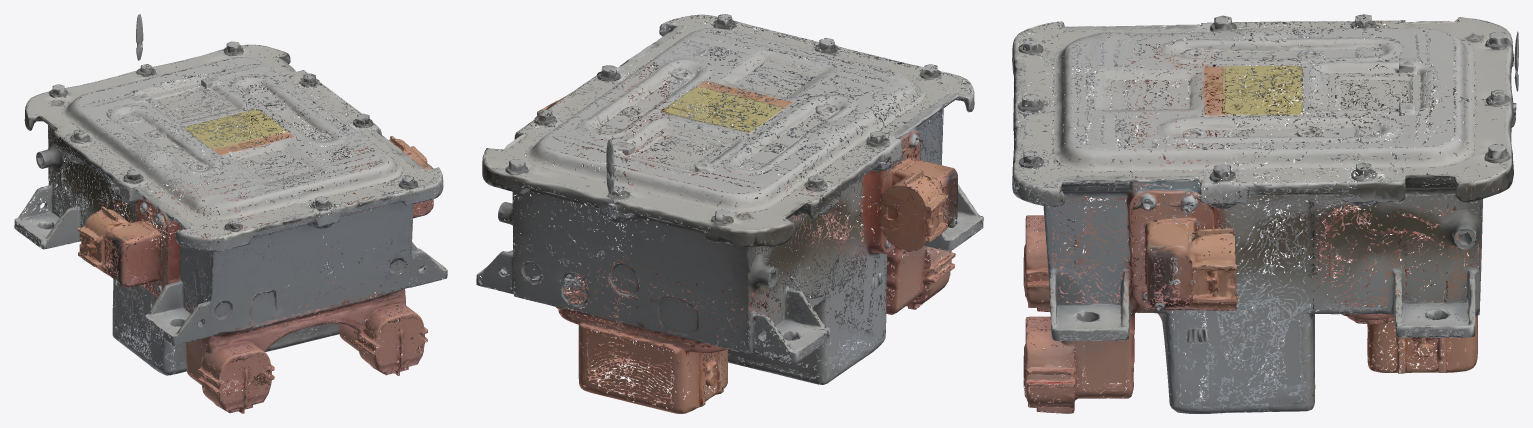
Rendered from bev_inverter_optimized.glb.
3 views of the same model, side by side, from view 1: azimuth 30°, elevation 25°; view 2: azimuth 150°, elevation 25°; view 3: azimuth 270°, elevation 25° (orthographic). The views are drawn at different scales.
Visible parts, largest first — view 1: Object_7, Object_10, Object_2, Object_13, Object_11, Object_18, Object_21, Object_9, Object_17, Object_22, Object_4, Object_5 (+10 smaller); view 2: Object_2, Object_13, Object_4, Object_3, Object_5, Object_14, Object_11, Object_7, Object_17, Object_15, Object_6, Object_16 (+10 smaller); view 3: Object_18, Object_7, Object_6, Object_5, Object_16, Object_8, Object_15, Object_4, Object_13, Object_2, Object_17, Object_9 (+10 smaller).
Part boxes in pixels (<box>): Object_7: <box>105,107,443,297</box>; Object_10: <box>125,85,351,411</box>; Object_2: <box>25,67,252,221</box>; Object_13: <box>14,64,418,321</box>; Object_11: <box>79,160,323,374</box>; Object_18: <box>237,110,442,247</box>; Object_21: <box>144,87,362,413</box>; Object_9: <box>217,101,441,374</box>; Object_17: <box>78,106,443,298</box>; Object_22: <box>77,162,306,389</box>; Object_4: <box>75,30,312,363</box>; Object_5: <box>149,45,358,259</box>; Object_2: <box>580,114,887,351</box>; Object_13: <box>565,96,861,359</box>; Object_4: <box>485,122,861,383</box>; Object_3: <box>585,124,874,409</box>; Object_5: <box>478,77,726,398</box>; Object_14: <box>570,114,867,413</box>; Object_11: <box>732,39,974,369</box>; Object_7: <box>587,15,912,219</box>; Object_17: <box>506,18,973,388</box>; Object_15: <box>482,98,861,384</box>; Object_6: <box>521,73,938,394</box>; Object_16: <box>476,47,741,401</box>; Object_18: <box>1012,62,1263,317</box>; Object_7: <box>1016,45,1272,299</box>; Object_6: <box>1078,22,1460,410</box>; Object_5: <box>1226,86,1507,369</box>; Object_16: <box>1130,76,1481,389</box>; Object_8: <box>1012,69,1284,412</box>; Object_15: <box>1236,31,1518,406</box>; Object_4: <box>1205,87,1514,390</box>; Object_13: <box>1051,14,1515,321</box>; Object_2: <box>1233,15,1512,170</box>; Object_17: <box>1029,15,1434,413</box>; Object_9: <box>1025,87,1329,409</box>.
Size of the model in its own units: 0.9993 by 0.7013 by 0.984.
